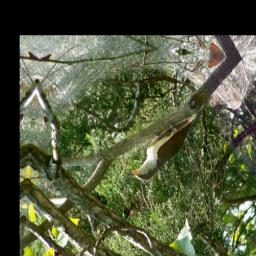Cuckoo: (129, 88, 213, 190)
